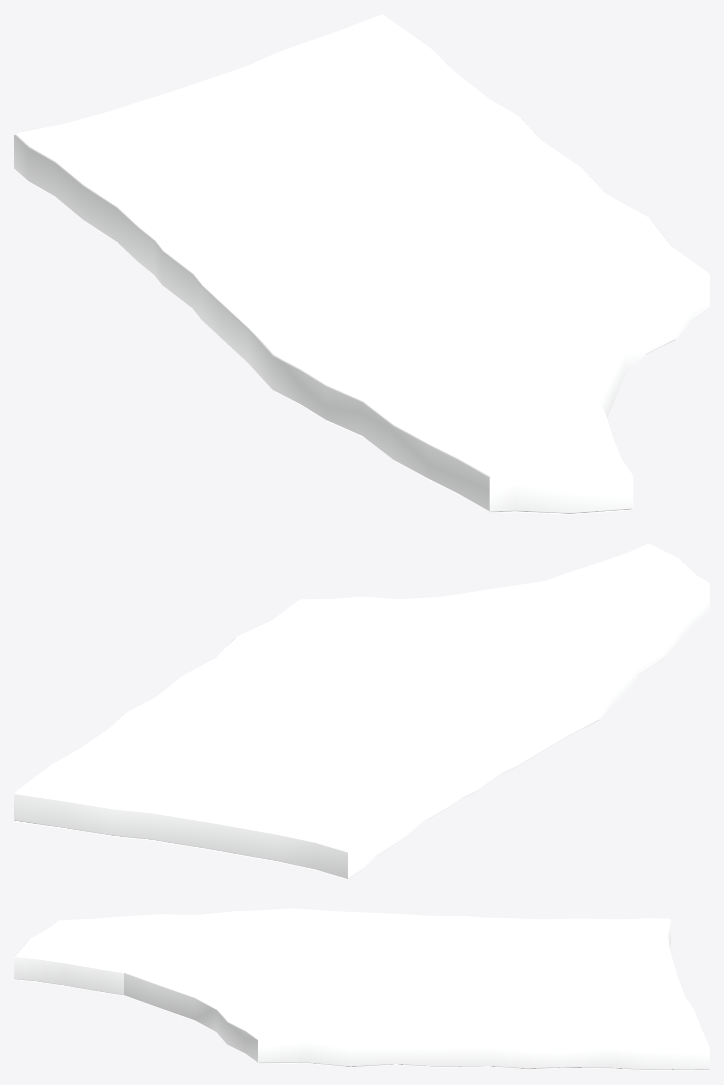
Rendered from ice_floe_large_004.glb.
3 renders of one model, top to bottom at view 1: azimuth 30°, elevation 25°; view 2: azimuth 150°, elevation 25°; view 3: azimuth 270°, elevation 25°, orthographic. The views are drawn at different scales.
Visible parts, largest first — view 1: ice_floe_large_004; view 2: ice_floe_large_004; view 3: ice_floe_large_004.
Boxes of the visible parts, bbox=[...] form: ice_floe_large_004: bbox=[14, 14, 709, 514]; ice_floe_large_004: bbox=[14, 543, 709, 879]; ice_floe_large_004: bbox=[14, 908, 709, 1070].
Bounding box in the file's own units: 10.5 × 0.9115 × 22.3.
Materials: 1 (1 with a texture image).
